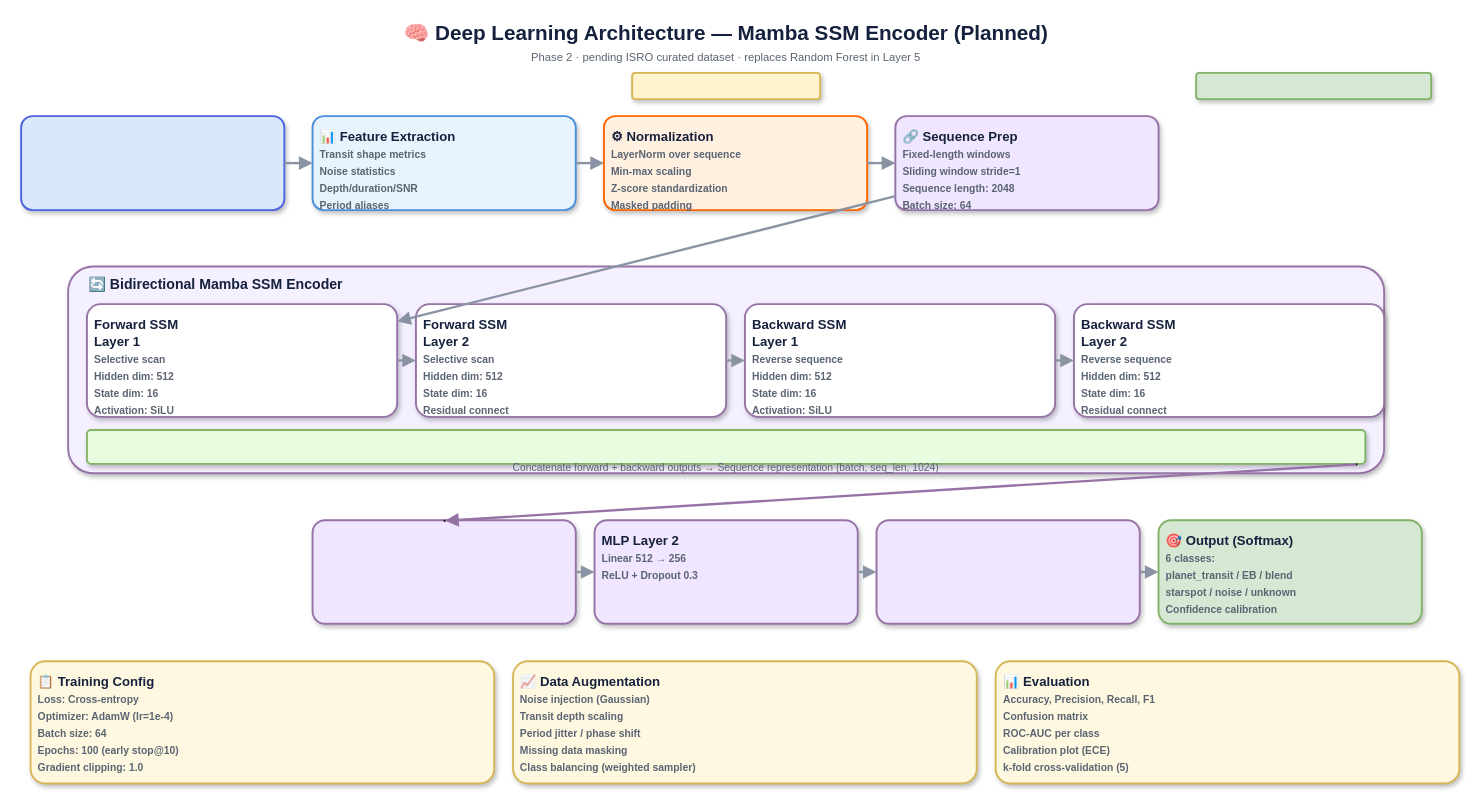
Some shapes in this 1481 by 807 pixel diagram are drawn without their labels. The shapes that lost their labels are listed below. From the top down, each one's centre as x and y in pixels, then its label:
(x=726, y=87): PLANNED — 30-hour Finale
(x=1314, y=87): Current: Random Forest (live)
(x=153, y=164): 📥 Input Phase-folded light curve (time, flux, flux_err) BLS periodogram features
(x=444, y=573): MLP Layer 1 Linear 1024 → 512 ReLU + Dropout 0.3
(x=1008, y=573): MLP Layer 3 Linear 256 → 128 ReLU + Dropout 0.3
